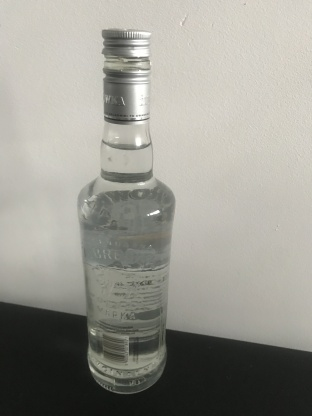nakretka: (100, 26, 152, 125)
